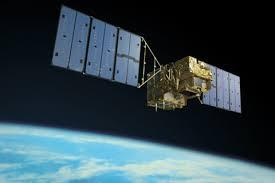antenna: (163, 92, 175, 102), (161, 98, 166, 110), (176, 76, 180, 91), (154, 100, 158, 112)
body: (146, 55, 212, 111)
solar: (51, 5, 143, 89), (200, 60, 242, 114)
